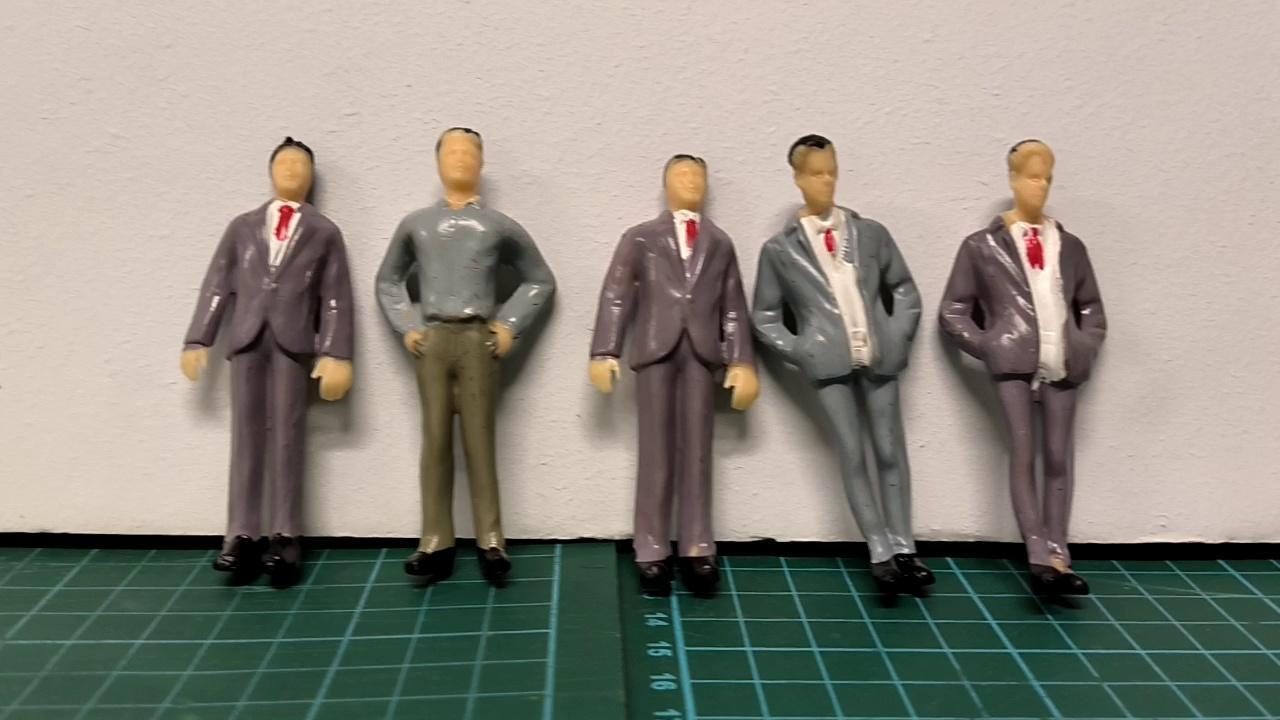human: (372, 125, 559, 584), (755, 139, 935, 606), (179, 134, 354, 591), (582, 150, 754, 600), (939, 140, 1105, 606)
